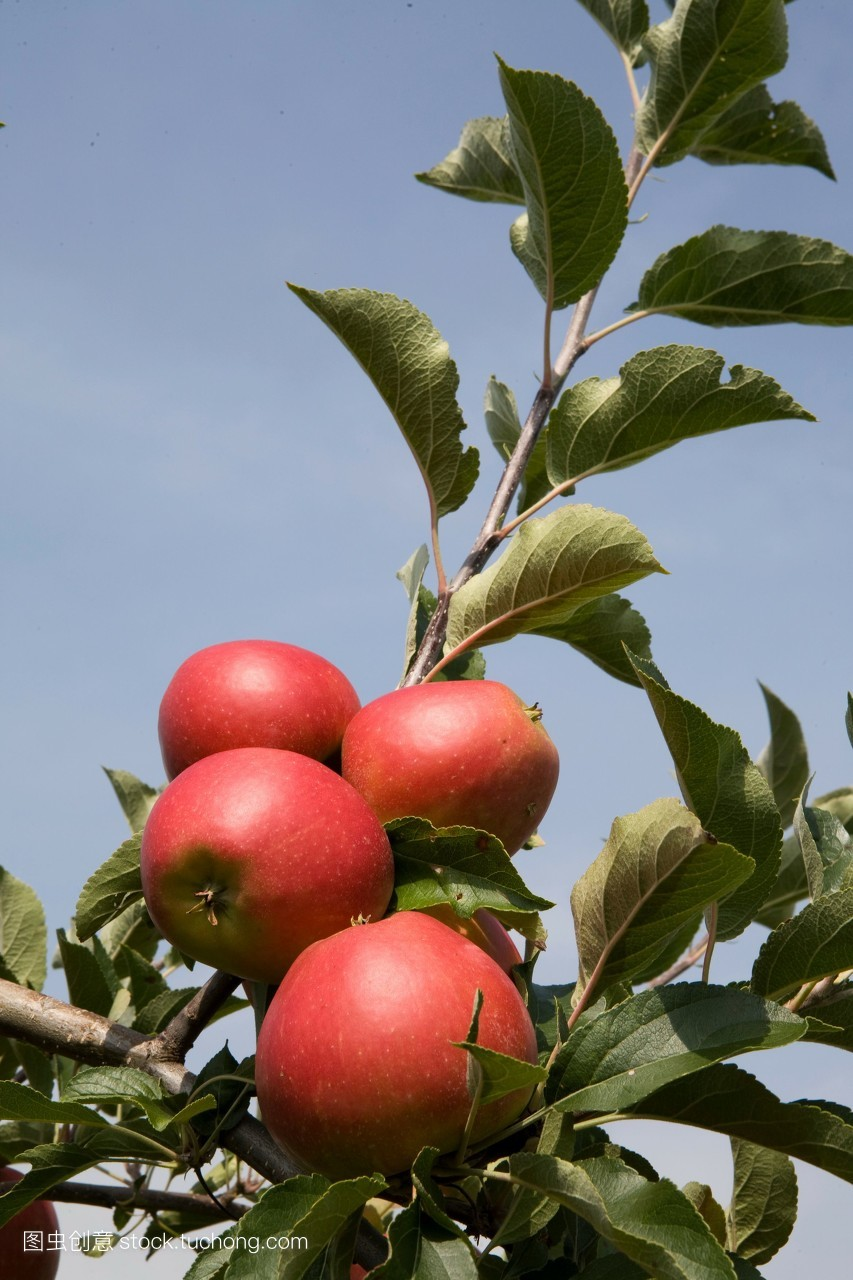apple: (253, 909, 533, 1171), (139, 751, 397, 969), (343, 679, 559, 859)
obscured(1)_apple: (161, 633, 359, 781)
